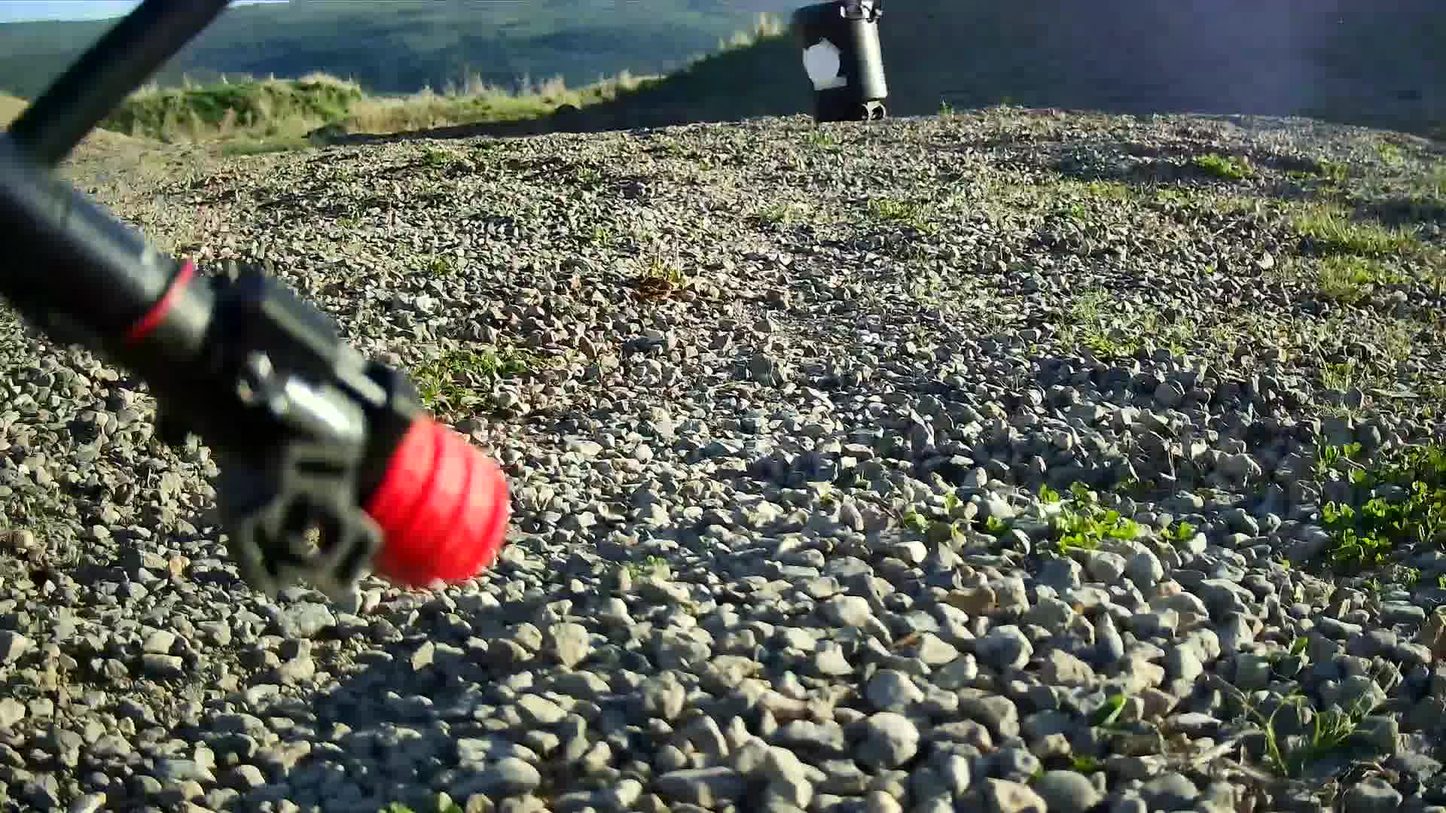Target: (799, 45, 841, 83)
